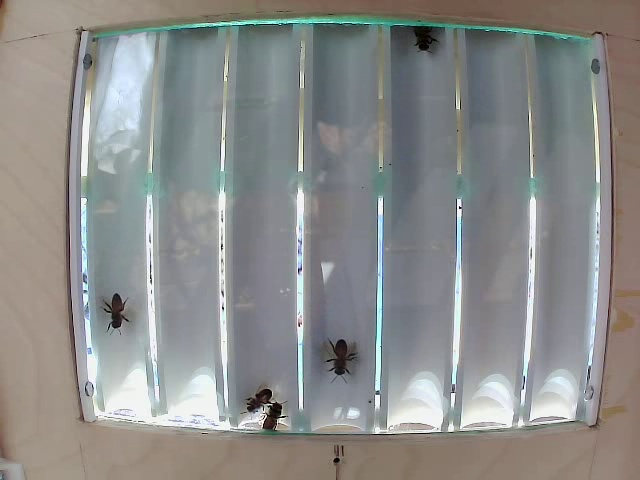bee: (313, 315, 359, 386), (101, 292, 131, 334), (416, 24, 448, 63), (241, 383, 271, 412), (255, 407, 290, 429)
